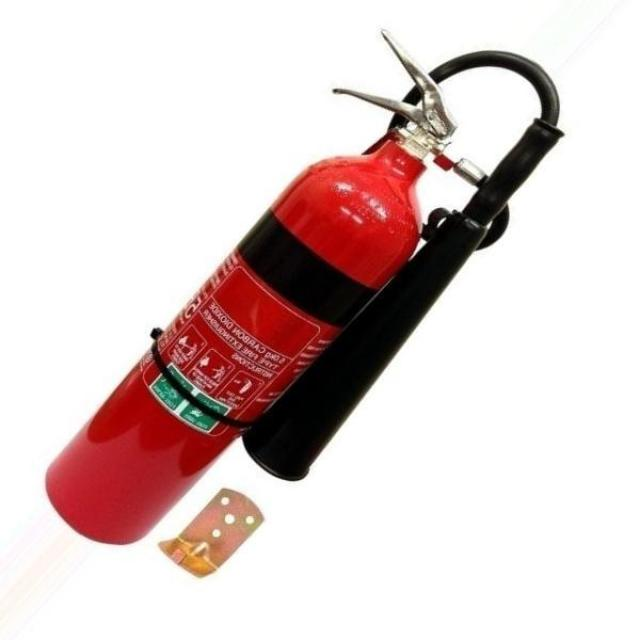fire_extinguisher: (39, 20, 567, 550)
